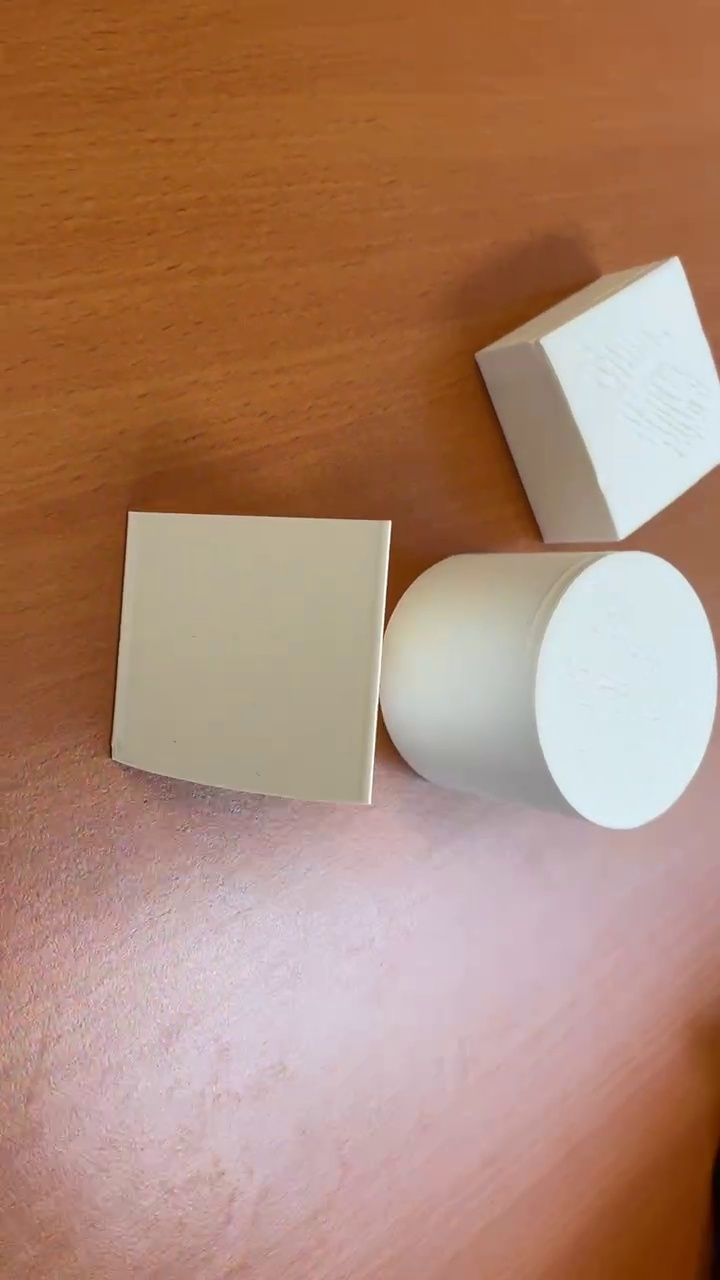Cube_short: (465, 255, 717, 546)
Cylinder: (379, 544, 719, 831)
Triangle: (116, 500, 394, 811)
